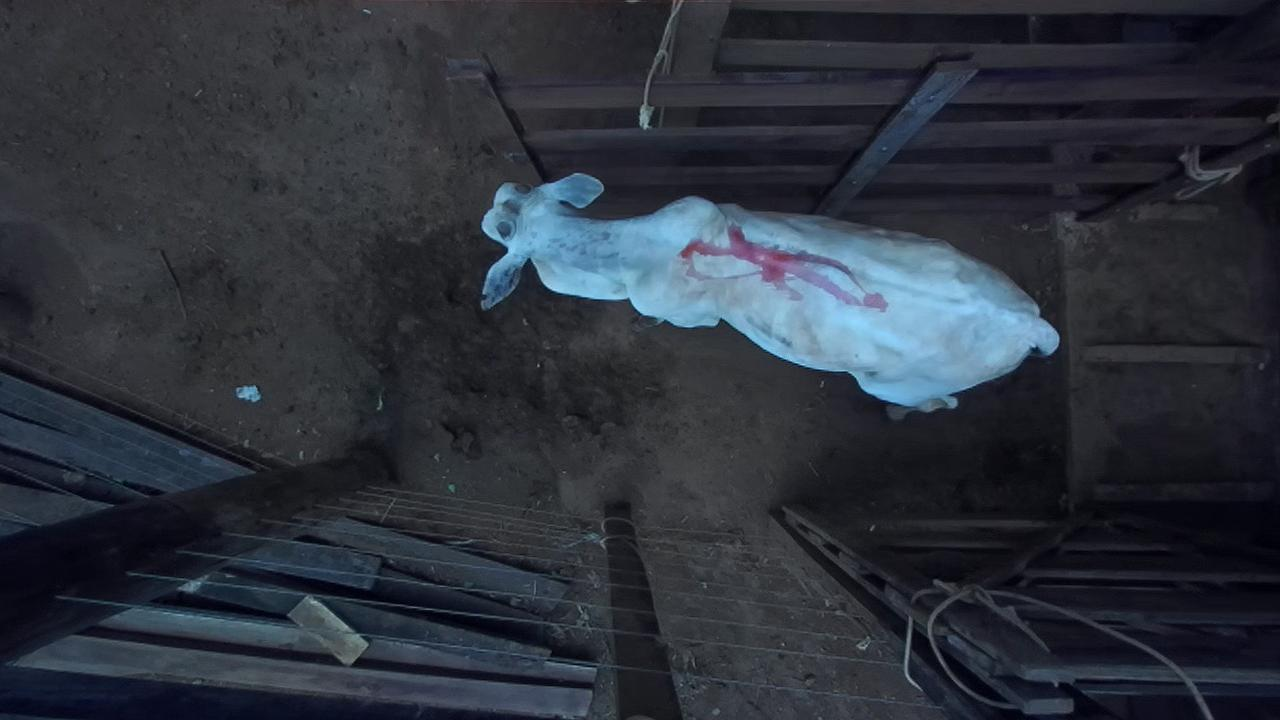cattle: (478, 170, 1060, 420)
